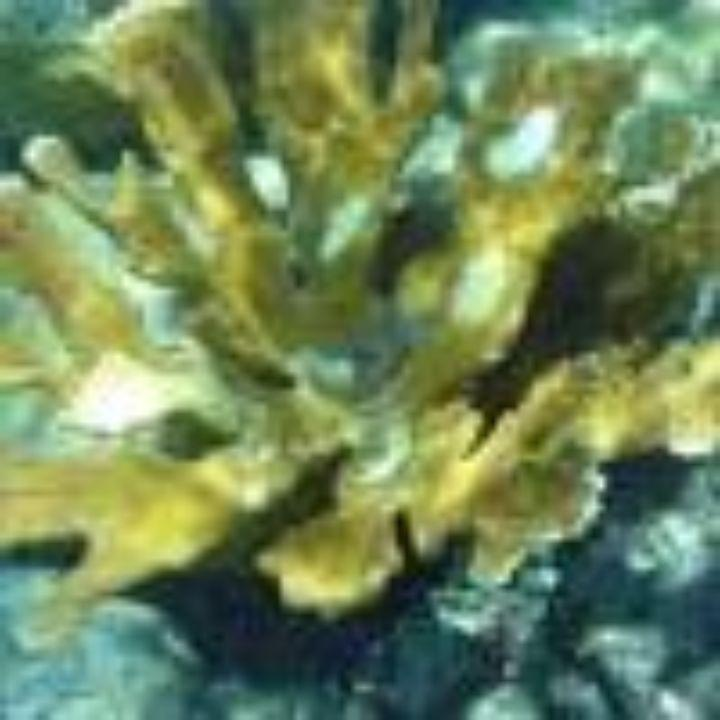White Pox Disease: (402, 110, 591, 423)
